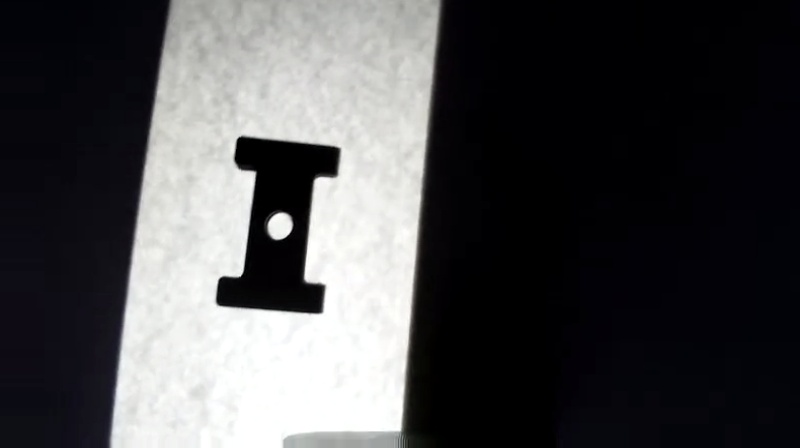O002: (209, 132, 347, 318)
